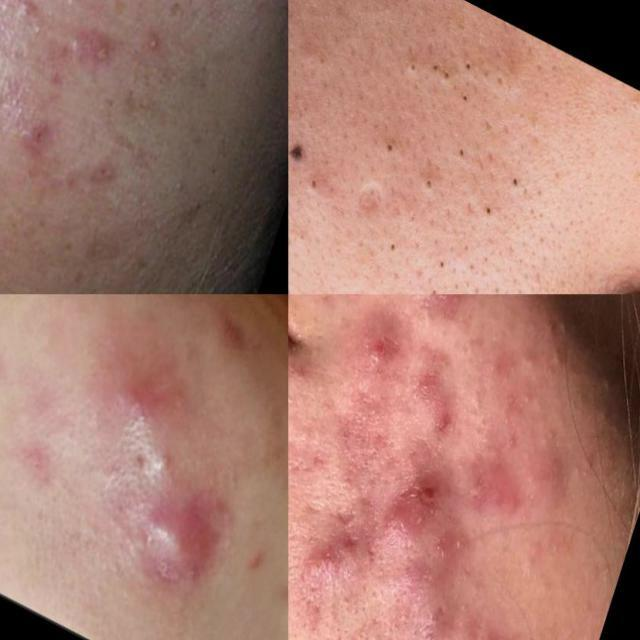Pimples: (110, 448, 254, 626), (83, 322, 200, 470), (396, 21, 492, 120), (125, 0, 204, 82), (60, 14, 136, 94), (8, 92, 75, 175), (303, 504, 364, 592), (389, 460, 442, 552), (352, 302, 407, 382), (418, 588, 472, 640), (309, 34, 350, 89), (501, 158, 546, 207), (351, 175, 388, 234), (300, 161, 341, 212), (374, 222, 413, 268), (372, 122, 404, 170), (416, 164, 450, 209), (334, 572, 364, 618), (476, 194, 510, 234), (450, 135, 480, 170), (326, 613, 353, 640)
